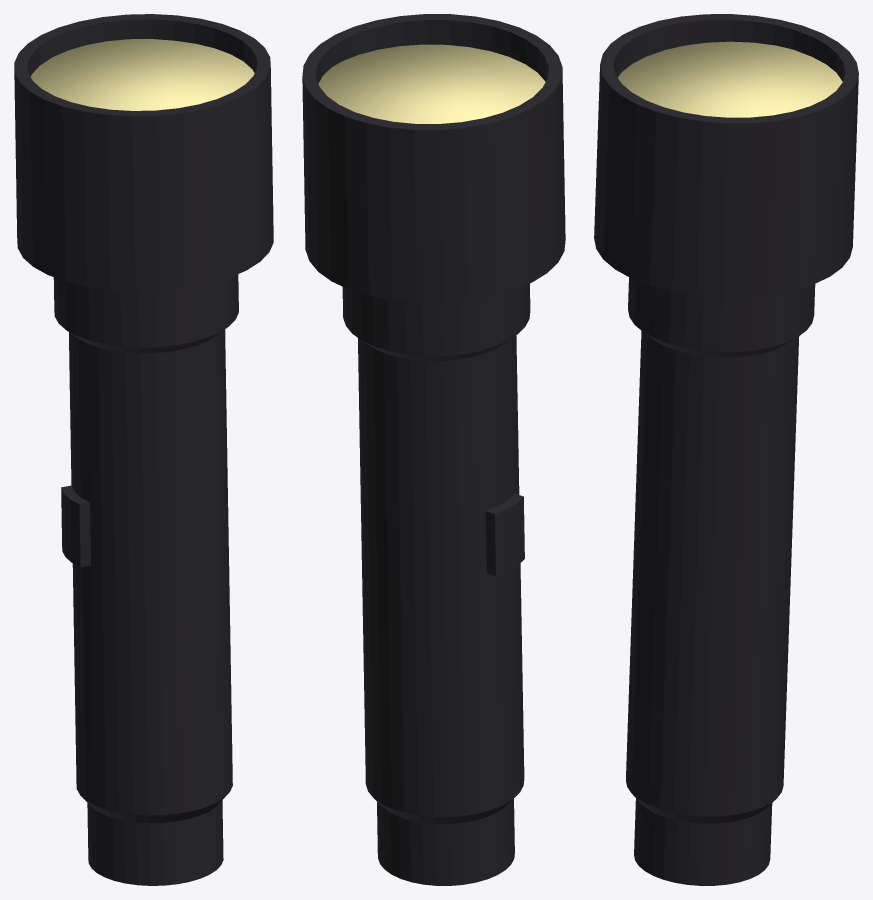
File: PRP_Torch.fbx
The picture shows the model from 3 angles, left to right: view 1: azimuth 30°, elevation 25°; view 2: azimuth 150°, elevation 25°; view 3: azimuth 270°, elevation 25°; orthographic projection.
Visible parts, largest first — view 1: Cylinder.001; view 2: Cylinder.001; view 3: Cylinder.001.
Part boxes in pixels (<box>): Cylinder.001: <box>14,14,273,885</box>; Cylinder.001: <box>302,14,565,885</box>; Cylinder.001: <box>594,14,858,885</box>.
Bounding box in the file's own units: 1.04 × 3.51 × 1.06.
